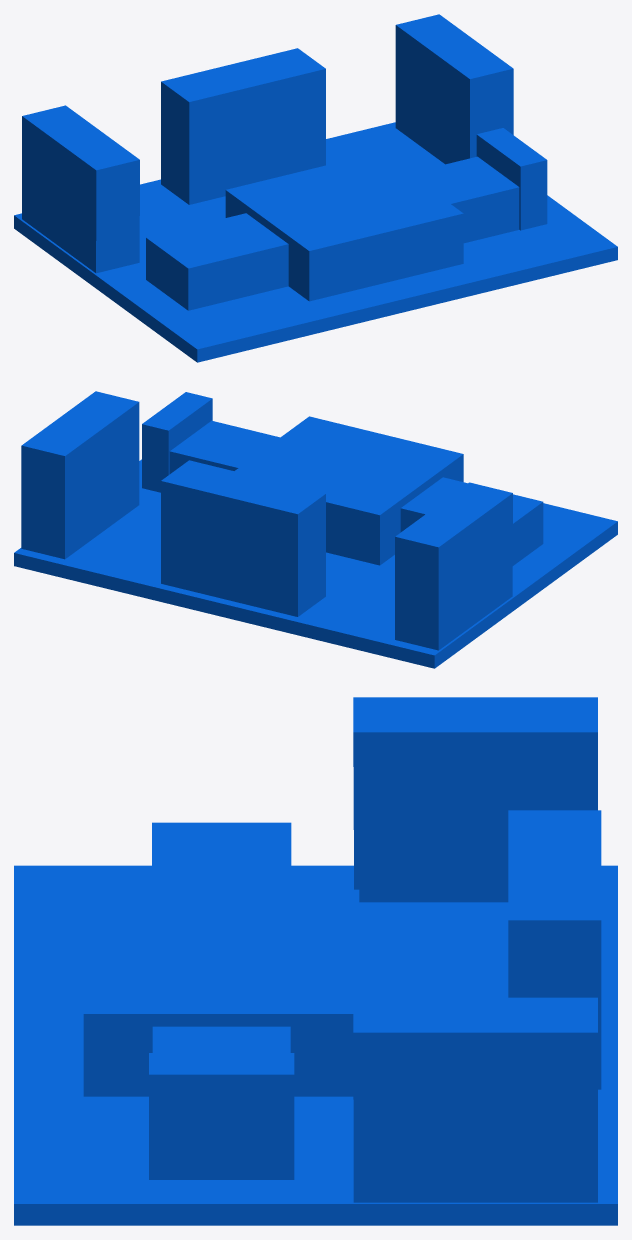
File: Jig 2.fbx
3 views of the same model, one above another, from view 1: azimuth 30°, elevation 25°; view 2: azimuth 150°, elevation 25°; view 3: azimuth 270°, elevation 25° (orthographic). The views are drawn at different scales.
Visible parts, largest first — view 1: Cube.001; view 2: Cube.001; view 3: Cube.001.
Part boxes in pixels (x1,y1,x2,y2): Cube.001: (14, 14, 617, 362); Cube.001: (14, 391, 617, 668); Cube.001: (14, 697, 617, 1225).
Bounding box in the file's own units: 780 × 208 × 589.
